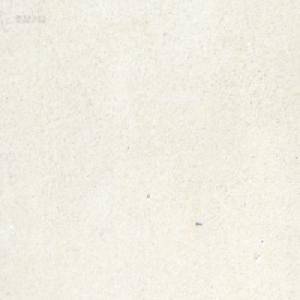Nail: (195, 220, 202, 225)
